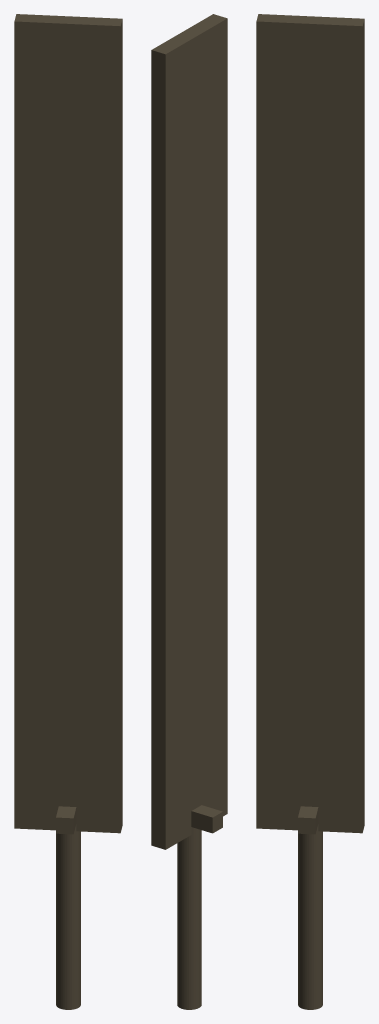
File: sentinel_sword.glb
The picture shows the model from 3 angles, left to right: view 1: azimuth 90°, elevation 25°; view 2: azimuth 150°, elevation 25°; view 3: azimuth 270°, elevation 25°; orthographic projection.
Visible parts, largest first — view 1: Blade; view 2: Blade; view 3: Blade.
Boxes of the visible parts, x1=… form: Blade: x1=14, y1=14, x2=122, y2=1009; Blade: x1=151, y1=14, x2=227, y2=1009; Blade: x1=256, y1=14, x2=364, y2=1009.
Bounding box in the file's own units: 0.4083 × 6.1 × 0.6072.
